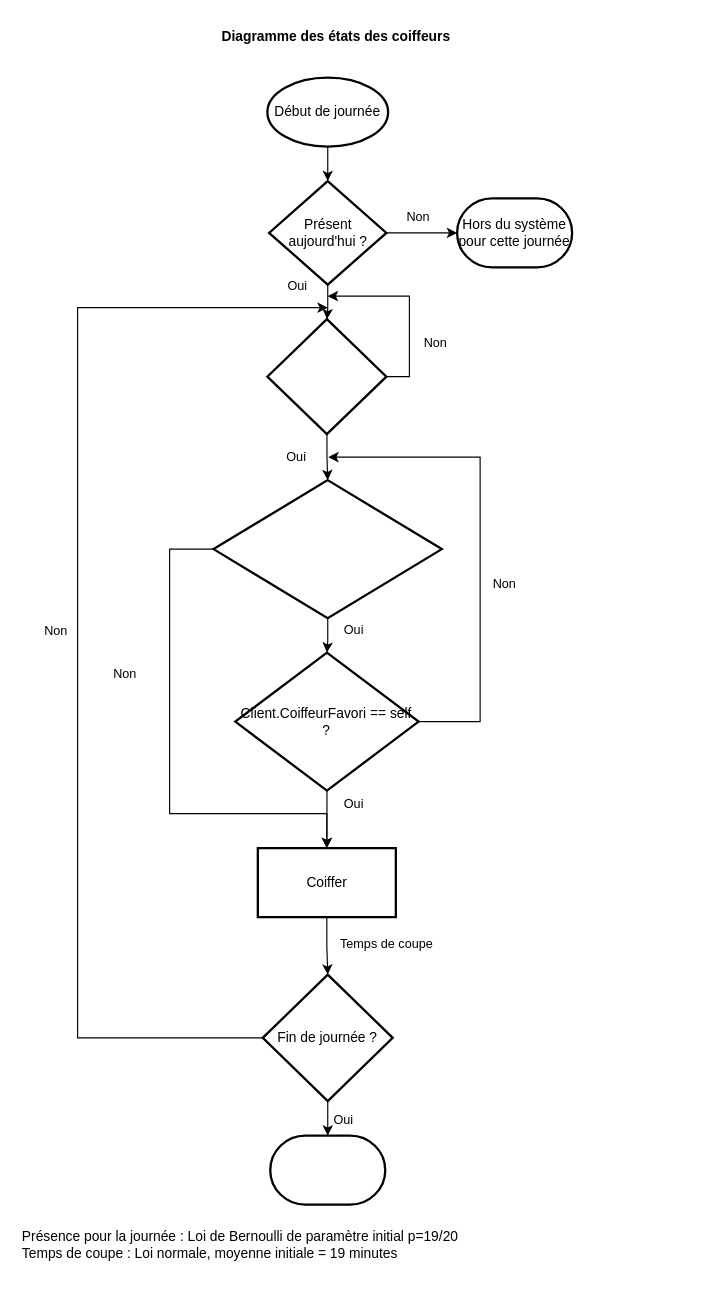
Image size: 718x1293. Some labels were removed from this diagram. The shapes that lost their labels are listed below. From the top down, each one's centre as x and y in pixels, then its label:
point 326,376: Clients dans la file d'attente ?
point 327,548: Client suivant dans la file d'attente possède un coiffeur favori ?
point 327,1169: Sortie du système
